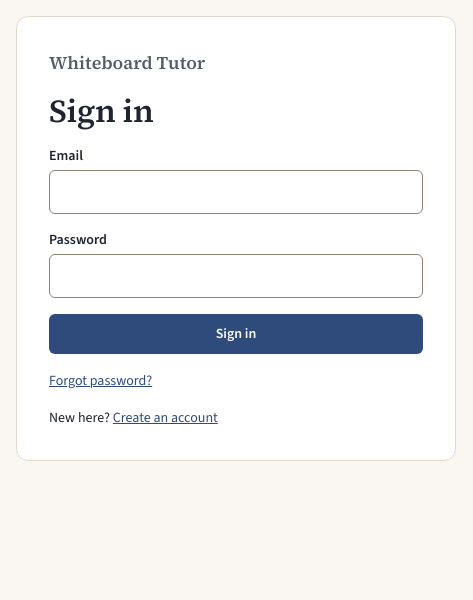
sign in › shows one generic message for invalid credentials, clears the password and keeps the email
Type "maya@example.com" into the field labelled "Email".
click(236, 192); type("maya@example.com")  # box [49,170,423,214]
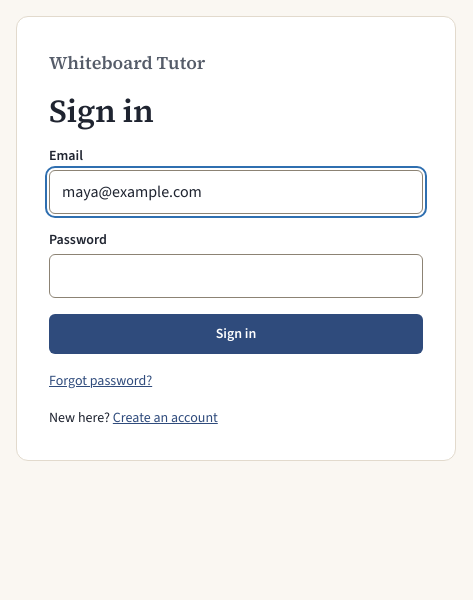
Type "correct horse battery" into the password field labelled "Password".
click(236, 276); type("correct horse battery")  # box [49,254,423,298]
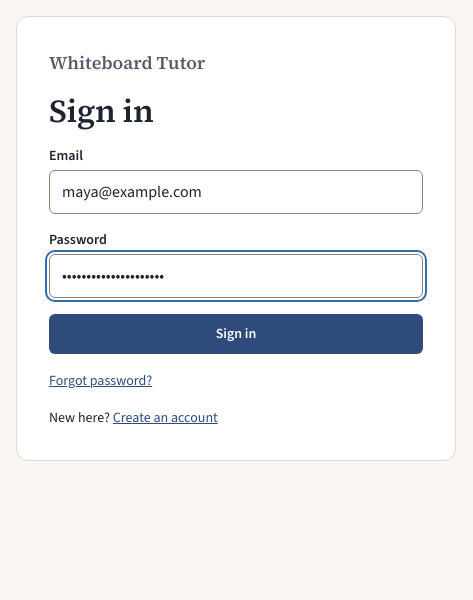
Click the button "Sign in".
click(236, 334)  # box [49,314,423,354]
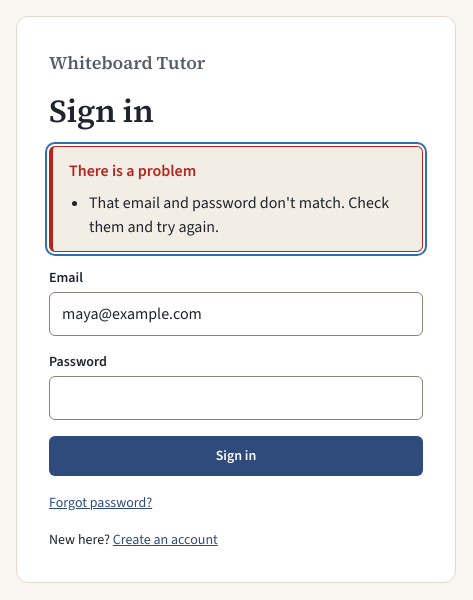
Now the message shows "That email and password don't match", box [89,192,389,237]
Now the password field labelled "Password" is empty, box [49,376,423,420]
